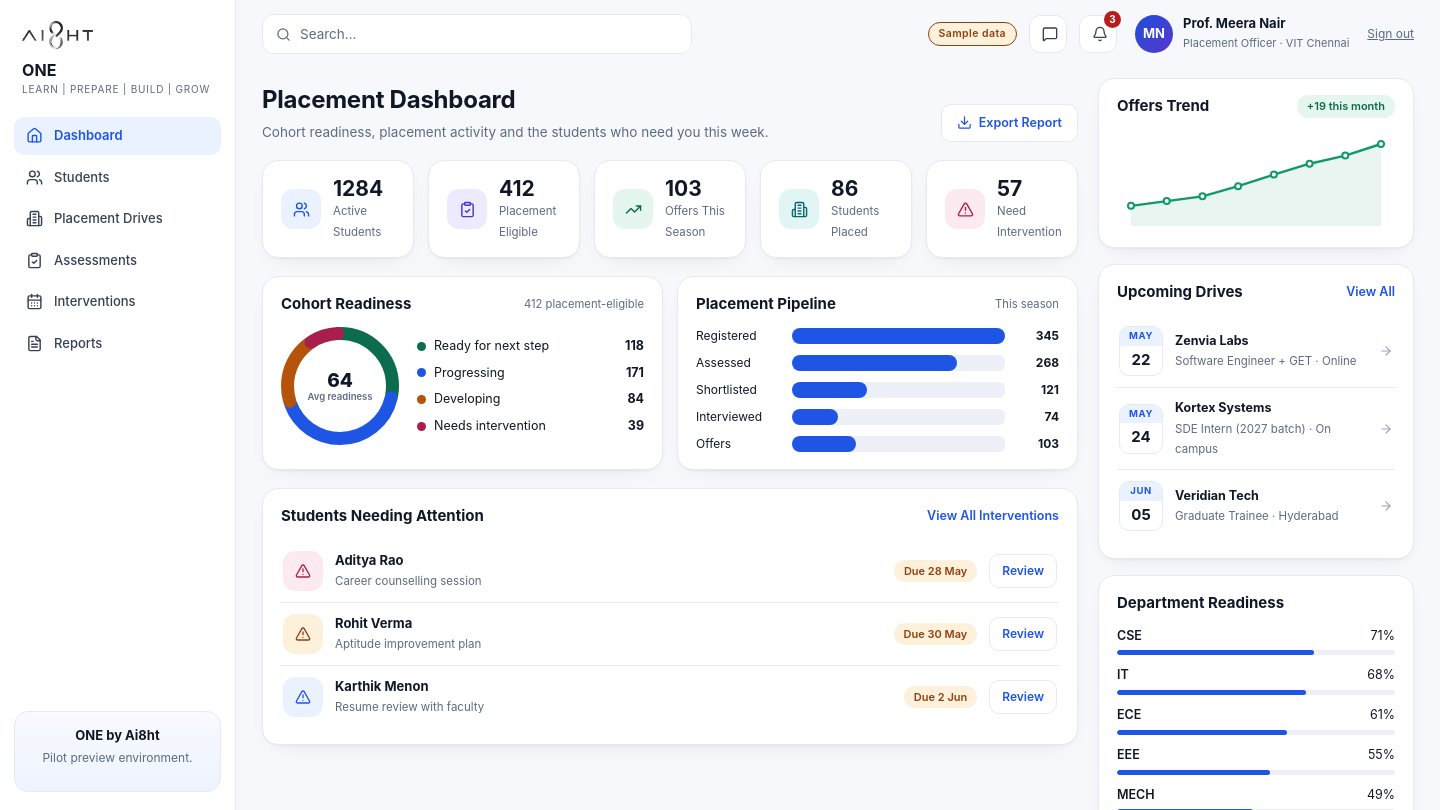
Test case: UAT feedback round: tabs, forms and filters really work › filters the roster by batch, including 2026 alumni
The width and height of the screenshot is (1440, 810).
Click the button "Students" at (118, 177), box [14,158,221,196]
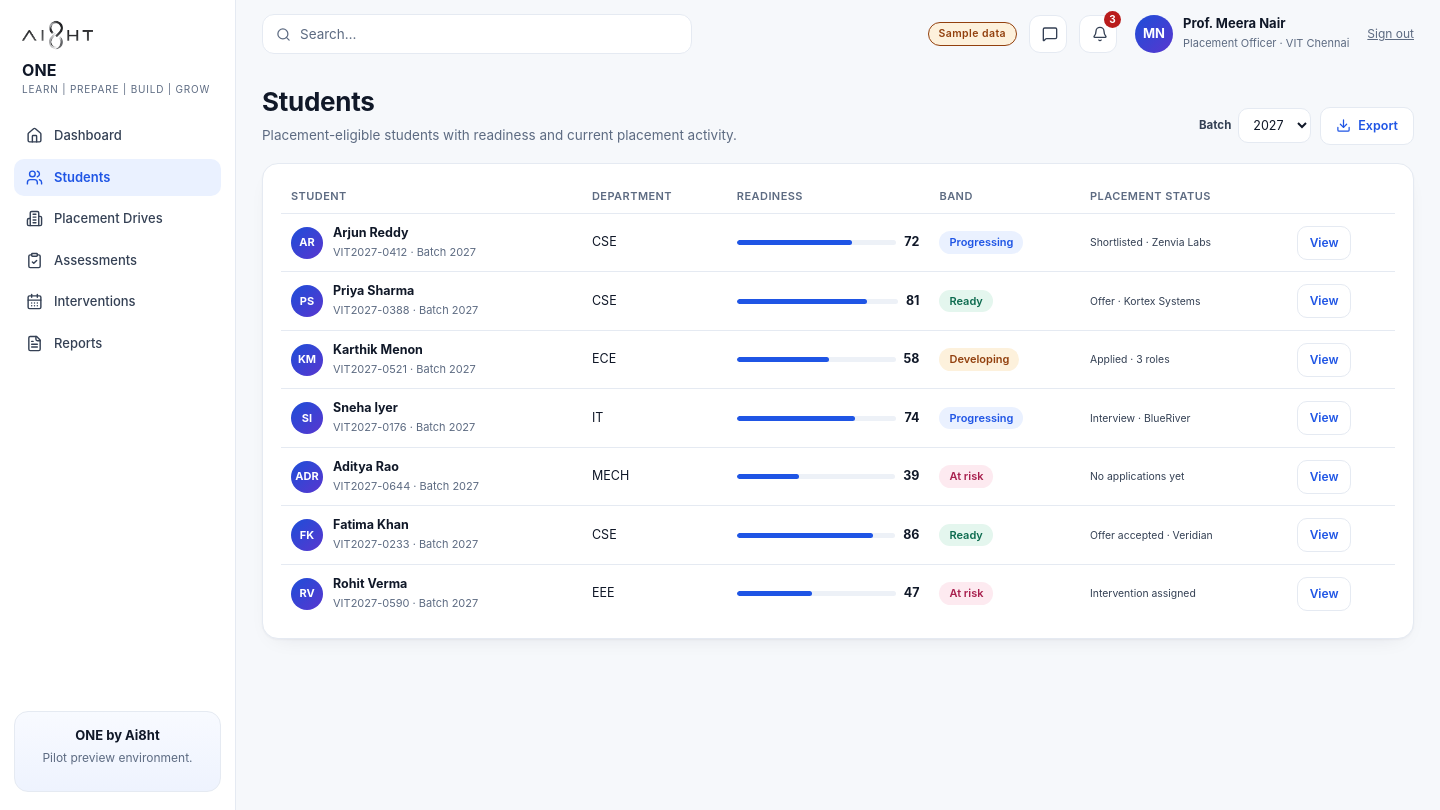
Expected: the text "Deepak Raju" is not shown
Select "2026" in the dropdown labelled "Batch" at (1275, 126), box [1238,108,1311,143]
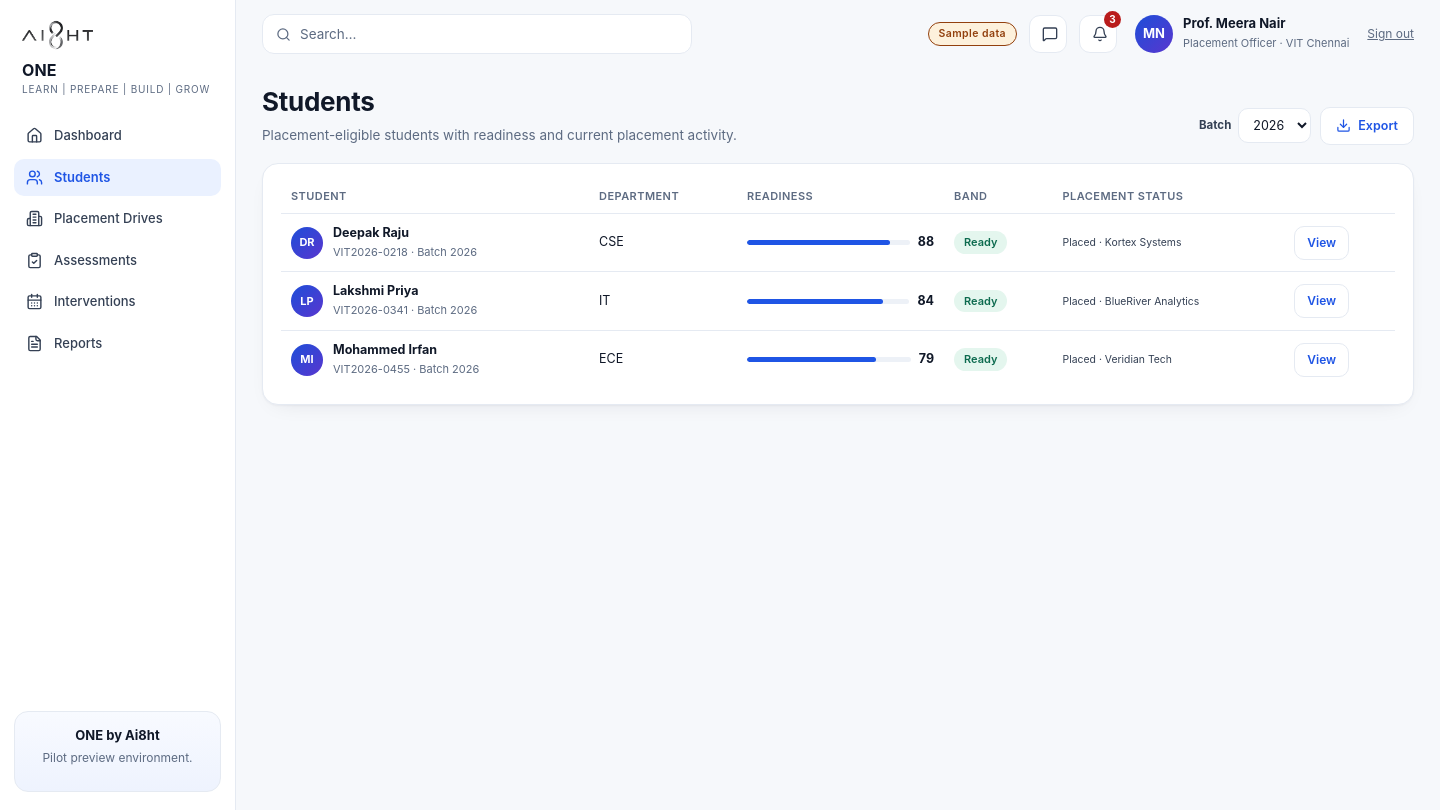
Expected: the text "Deepak Raju" is shown, [333,225,409,240]
Expected: the text "Arjun Reddy" is gone
